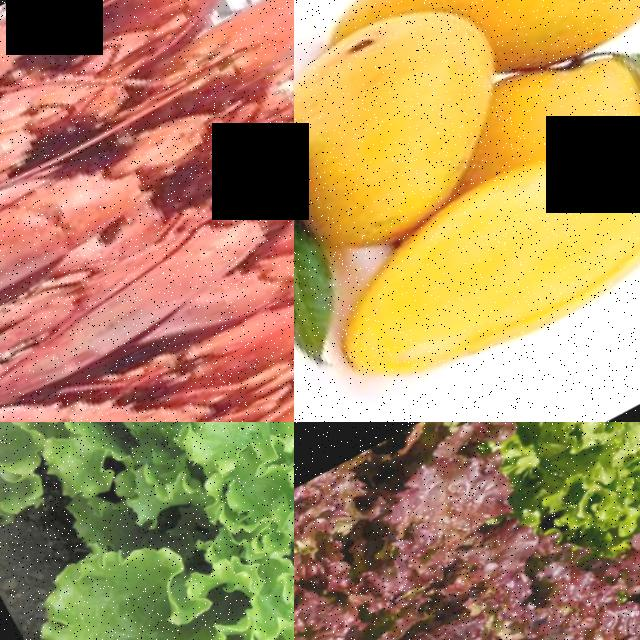lettuce: (0, 422, 294, 640), (516, 422, 640, 504)
mango: (306, 110, 640, 422), (294, 0, 546, 265)
